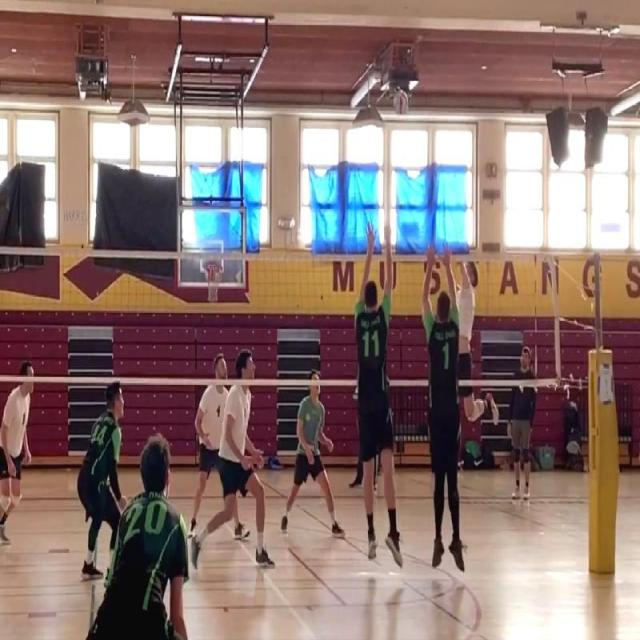volleyball: (394, 90, 408, 115)
